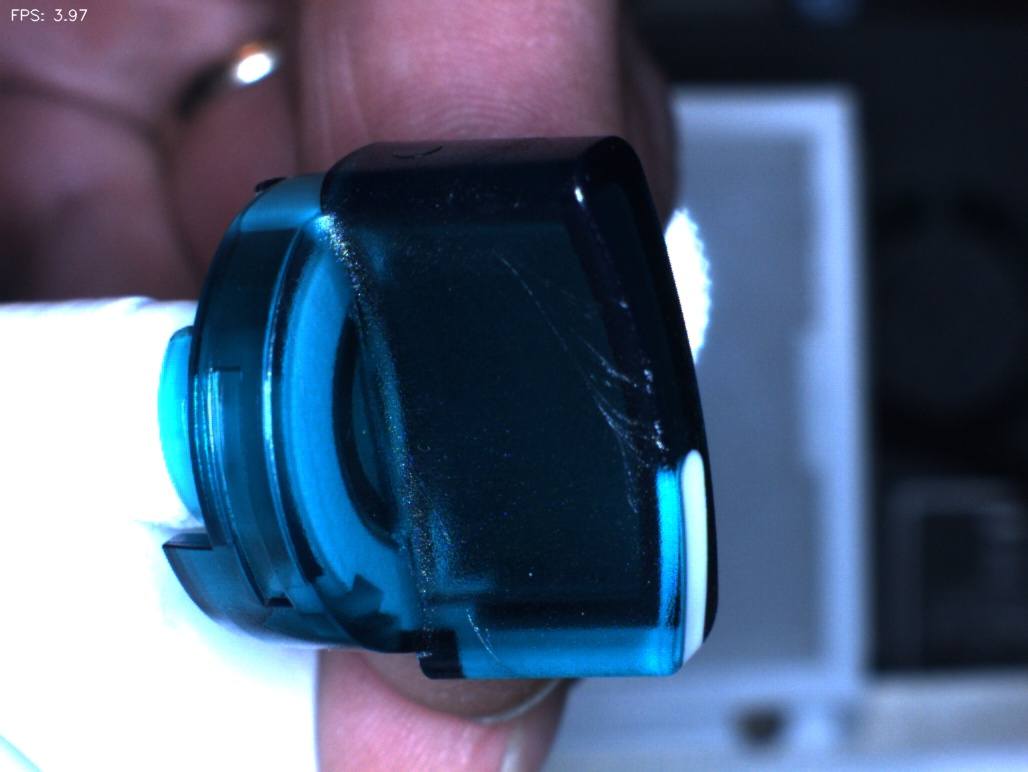Givrage: (497, 264, 668, 512)
